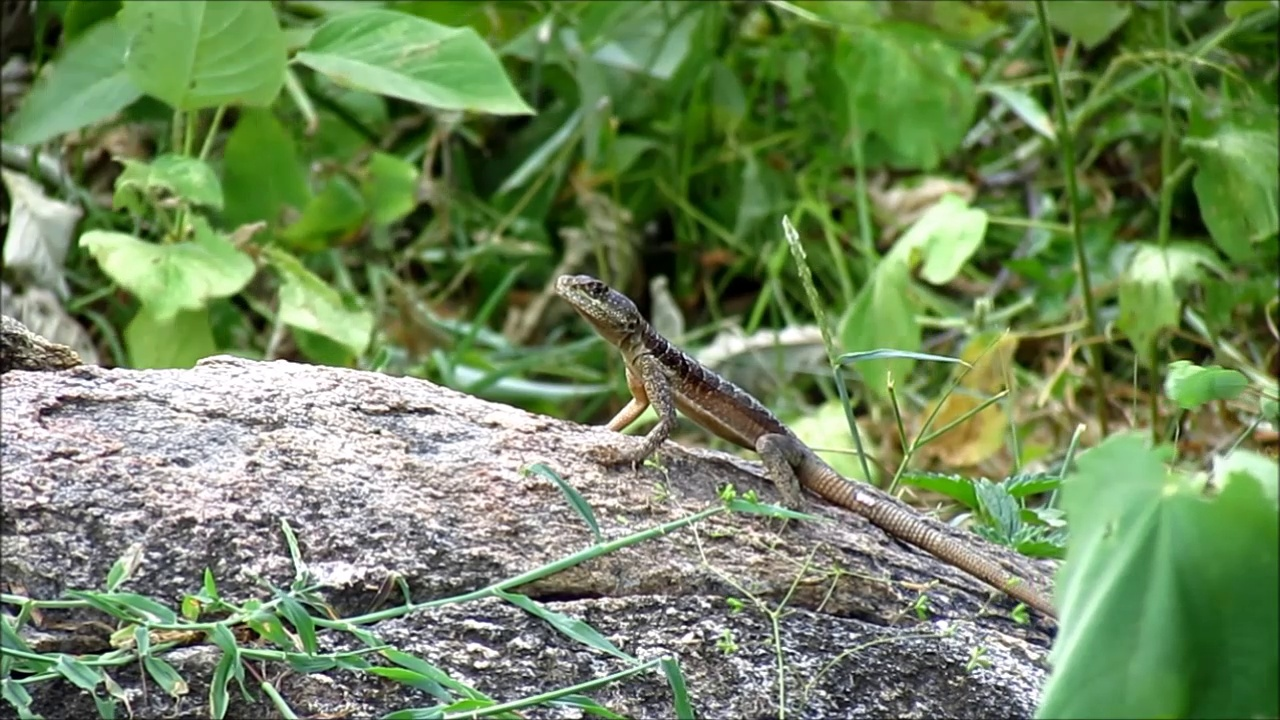body: (599, 313, 1061, 620)
head: (554, 274, 638, 335)
